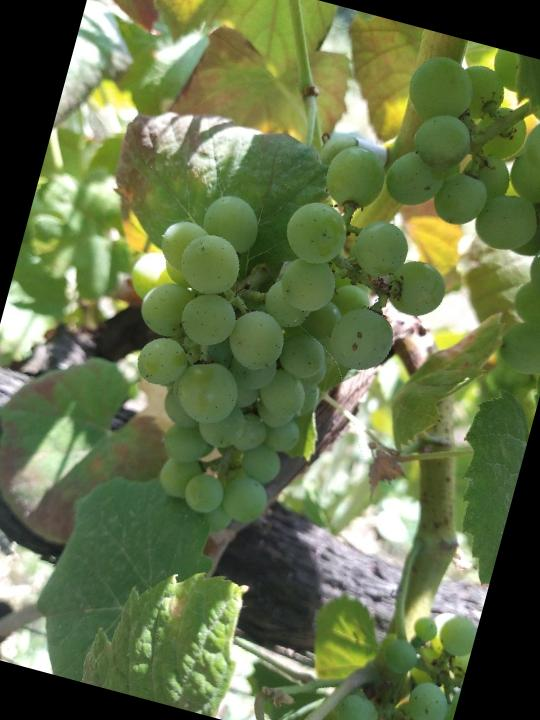grape: (71, 93, 479, 577)
